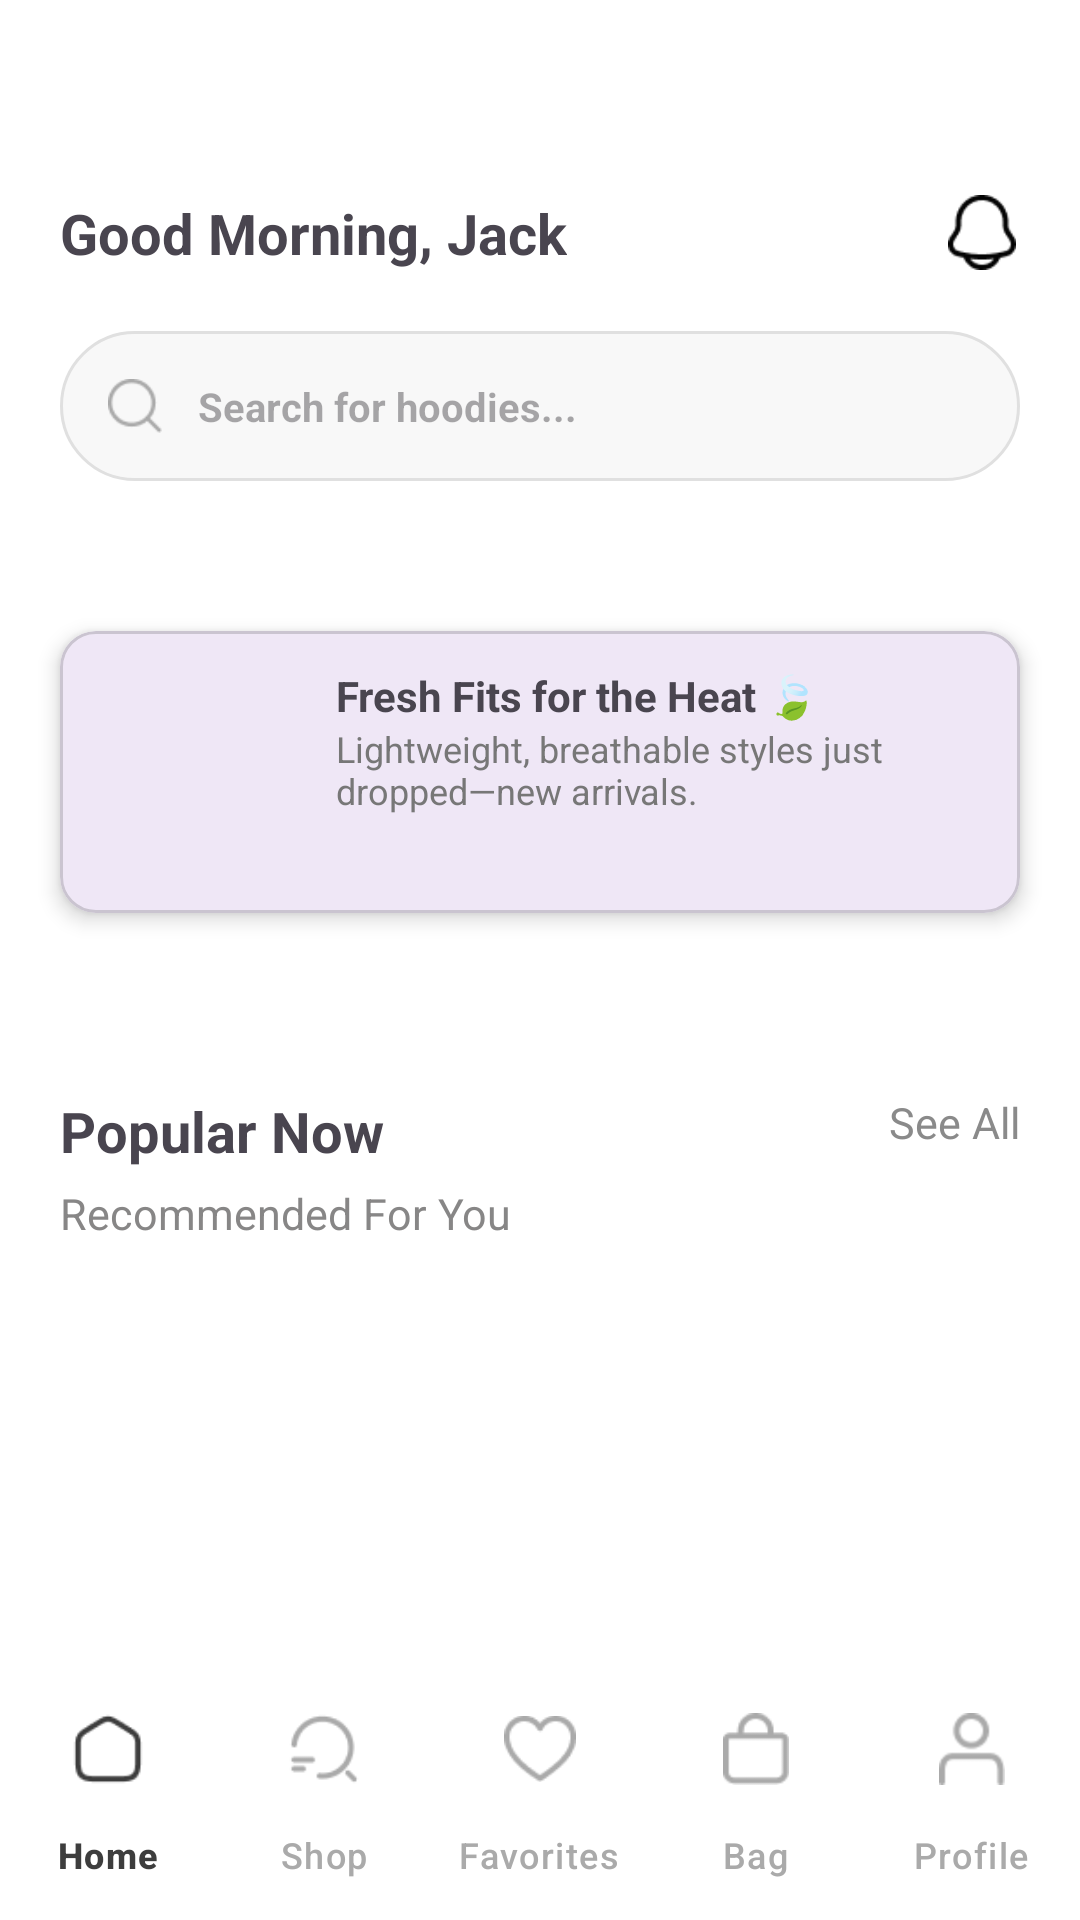

Icon click points for this 1080 x 1920 phone screenshot, format (x=x, y=y):
notification: (x=982, y=232)
